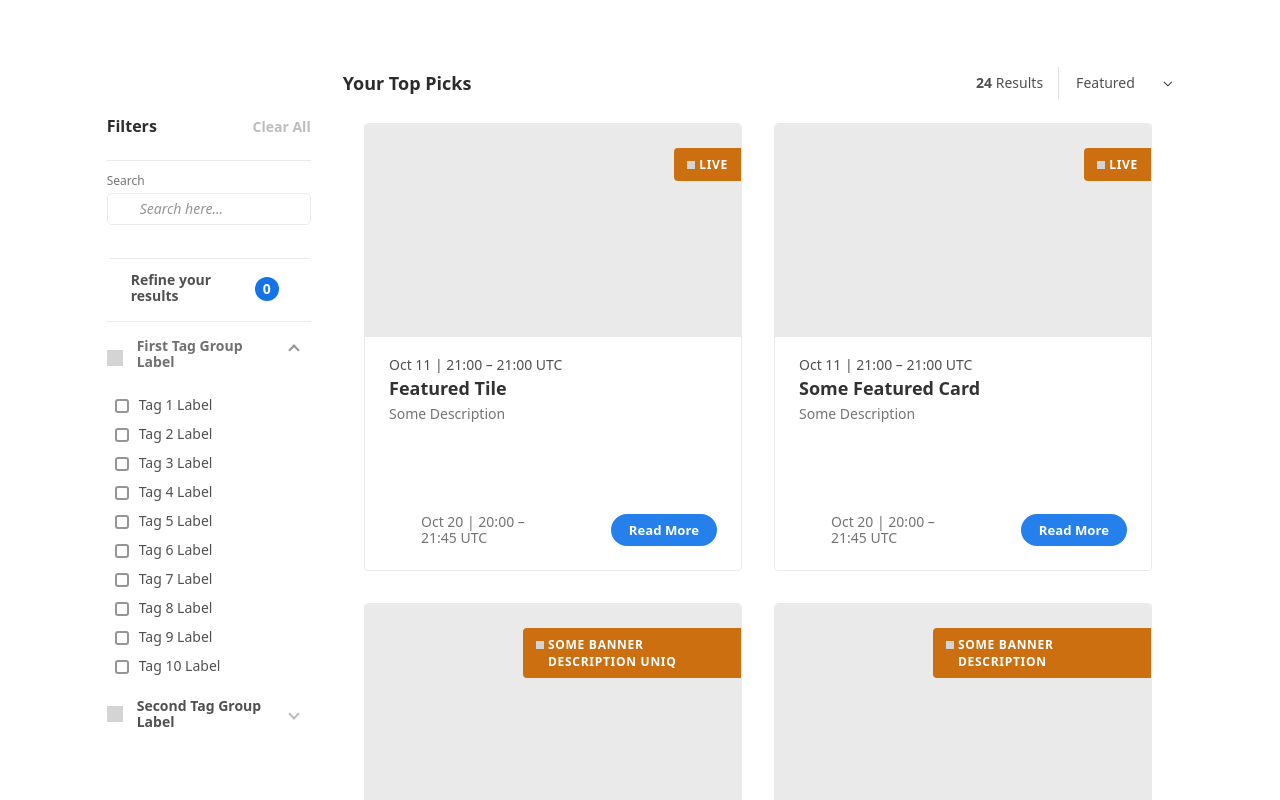
Test: Consonant/Container/Sort Popup › should be able to use date desc sort
The width and height of the screenshot is (1280, 800).
Get The Sort Popup Input
Click the button with test id "select-button".
click(1124, 83)  # box [1075,67,1173,99]
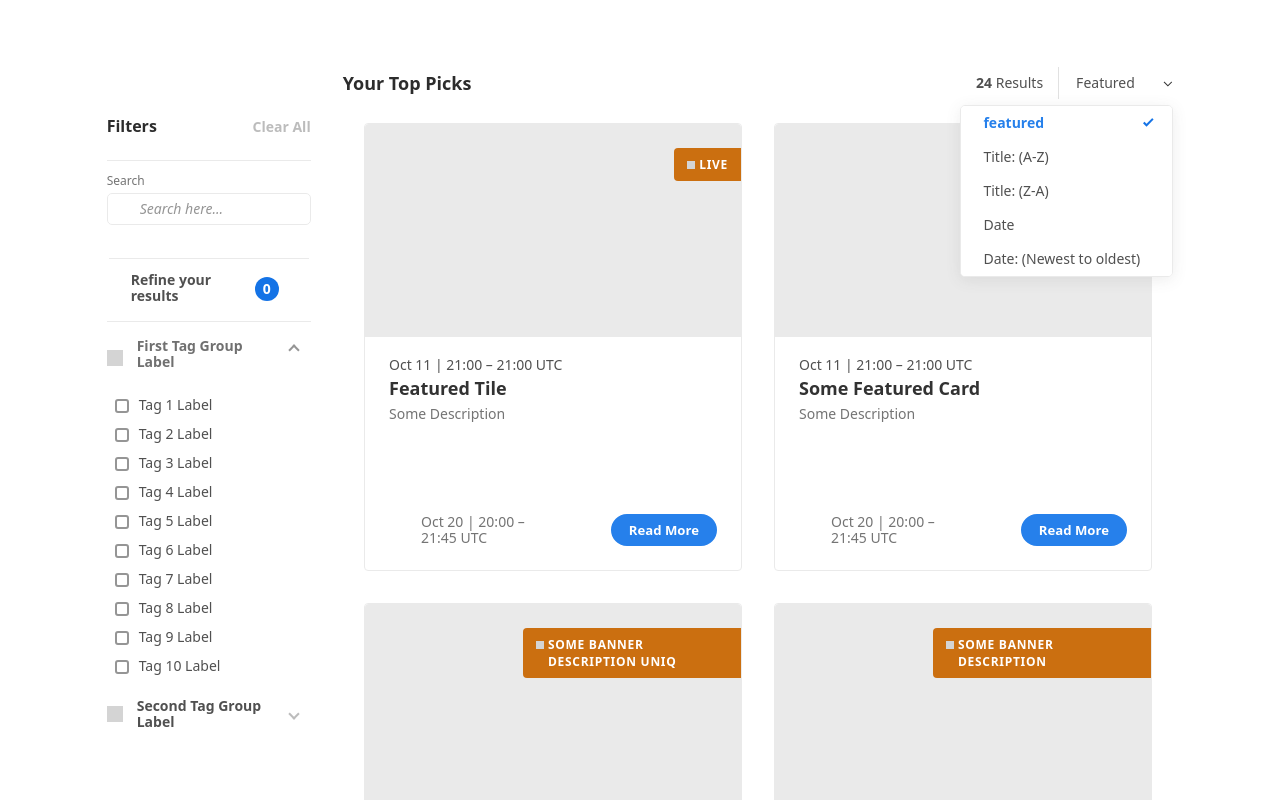
Click the button "Date: (Newest to oldest)".
click(1067, 259)  # box [961,242,1172,276]
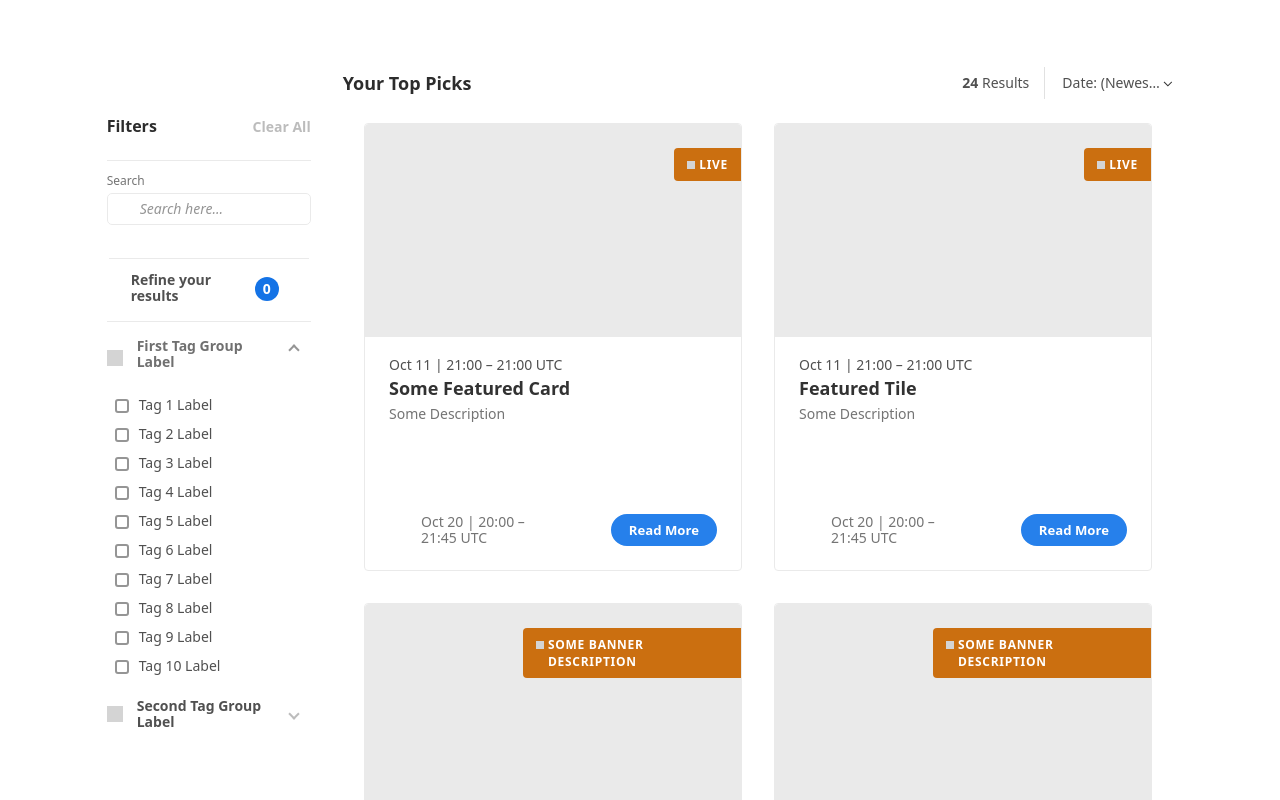
expect the button with test id "select-button" reads "Date: (Newest to oldest)": met, box [1061,67,1173,99]
